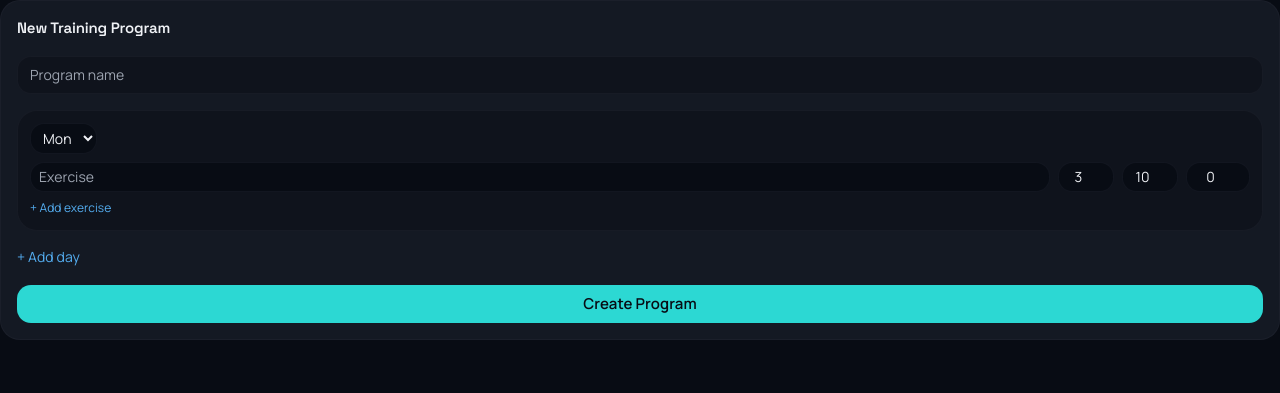
Test: TrainingProgramForm › shows error when no exercises have names
The width and height of the screenshot is (1280, 393).
In the field labelled "Program name": (640, 74) [17,56,1263,94], type "My Program"
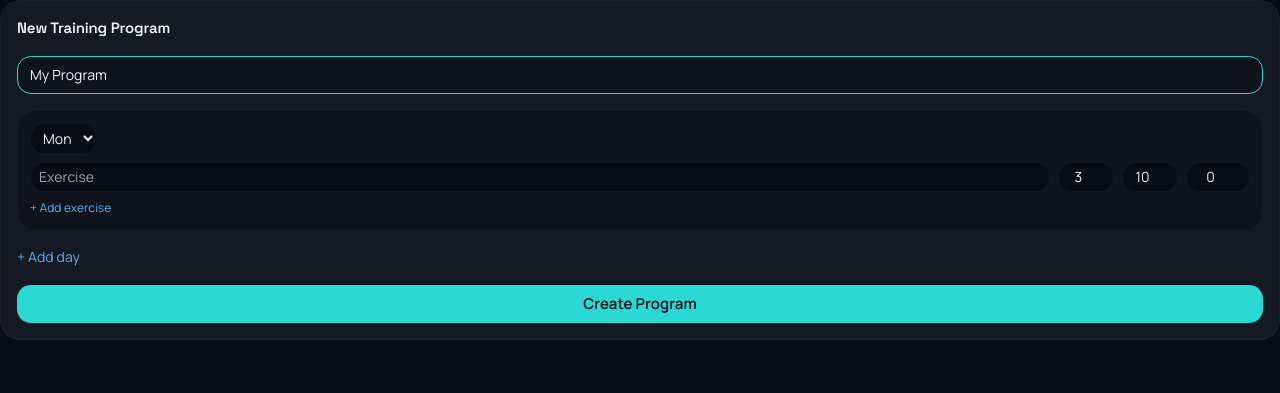
Click the button "Create Program": (640, 304) [17,284,1263,323]
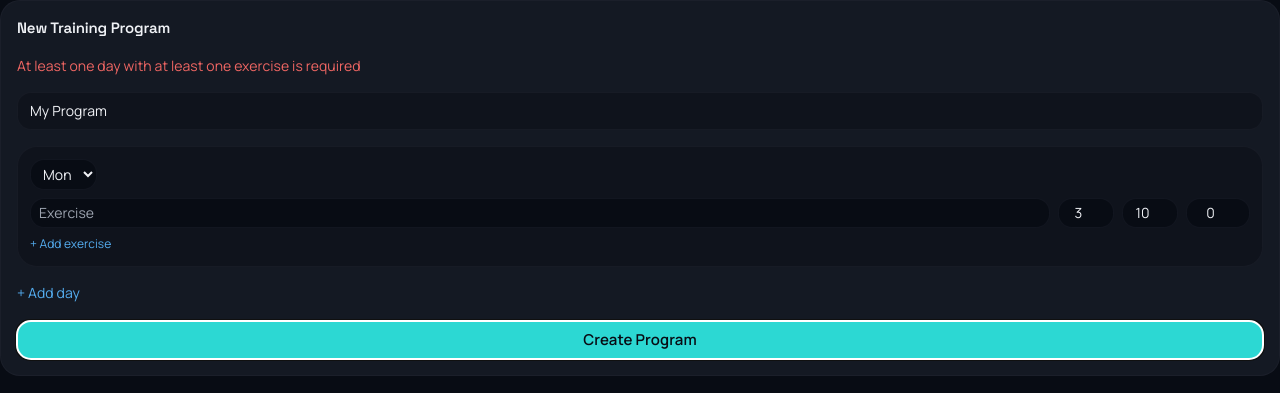
Expected: the text "At least one day with at least one exercise is required" is shown, [17,56,361,74]
